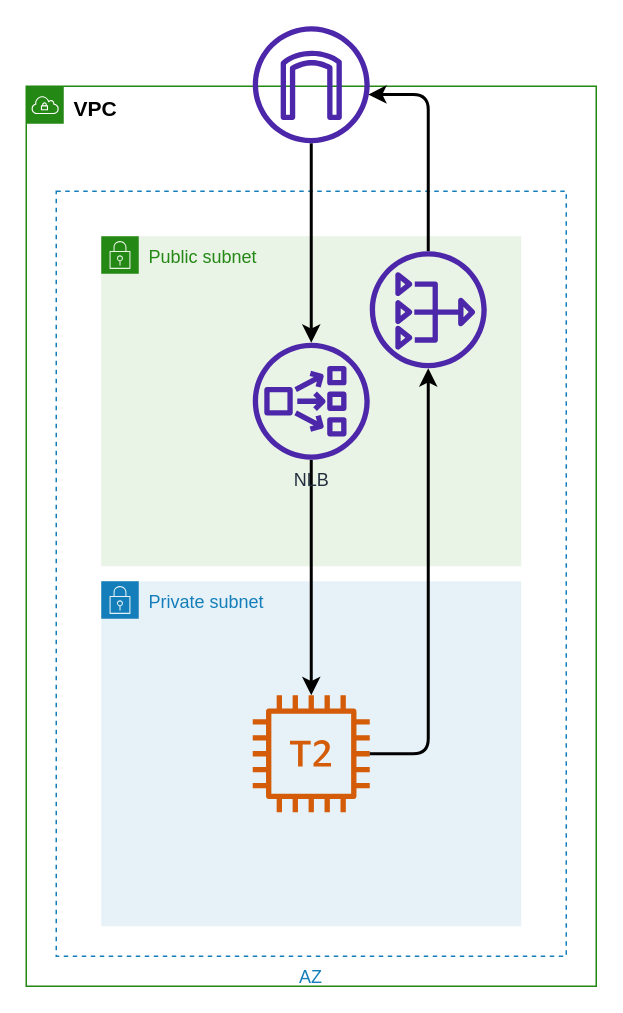
Image size: 623x1013. Some labels were removed from this diagram. The shapes that lost their labels are listed below. From the top down, each one's centre as x and y in pixels, then its label:
pixel 310 84: IGW
pixel 427 309: NATGW
pixel 310 753: EC2
